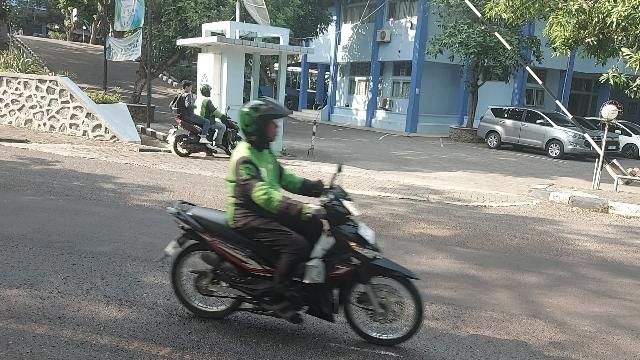helm: (241, 98, 292, 144), (202, 86, 215, 98)
motor: (158, 167, 425, 348), (168, 107, 243, 159)
non-helm: (183, 81, 193, 93)
